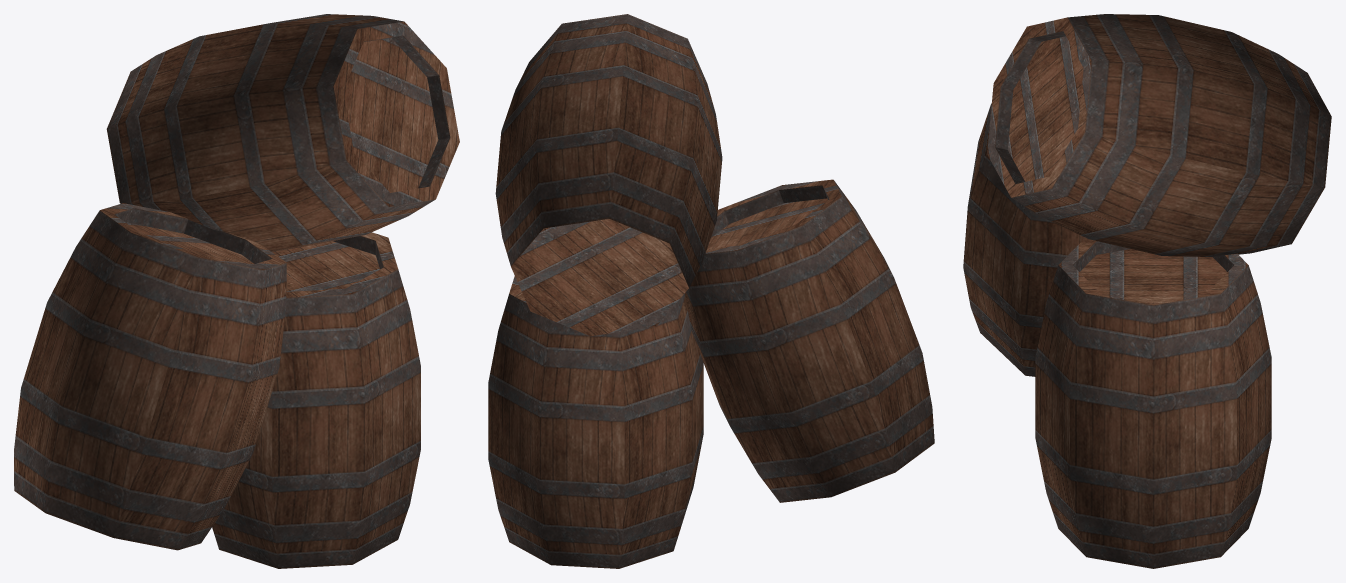
File: ficilar.FBX
3 views of the same model, side by side, from view 1: azimuth 30°, elevation 25°; view 2: azimuth 150°, elevation 25°; view 3: azimuth 270°, elevation 25° (orthographic). The views are drawn at different scales.
Visible parts, largest first — view 1: Cylinder017; view 2: Cylinder017; view 3: Cylinder017.
Boxes of the visible parts, <box> form: Cylinder017: <box>14,14,459,568</box>; Cylinder017: <box>488,14,934,568</box>; Cylinder017: <box>963,14,1331,568</box>.
Size of the model in its own units: 114 by 137 by 88.45.
1 material, 1 textured.
